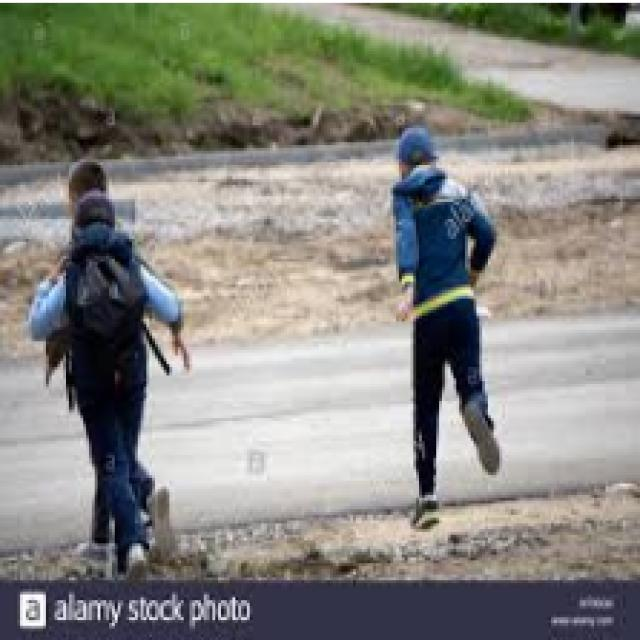running: (20, 154, 198, 581), (383, 125, 512, 542)
